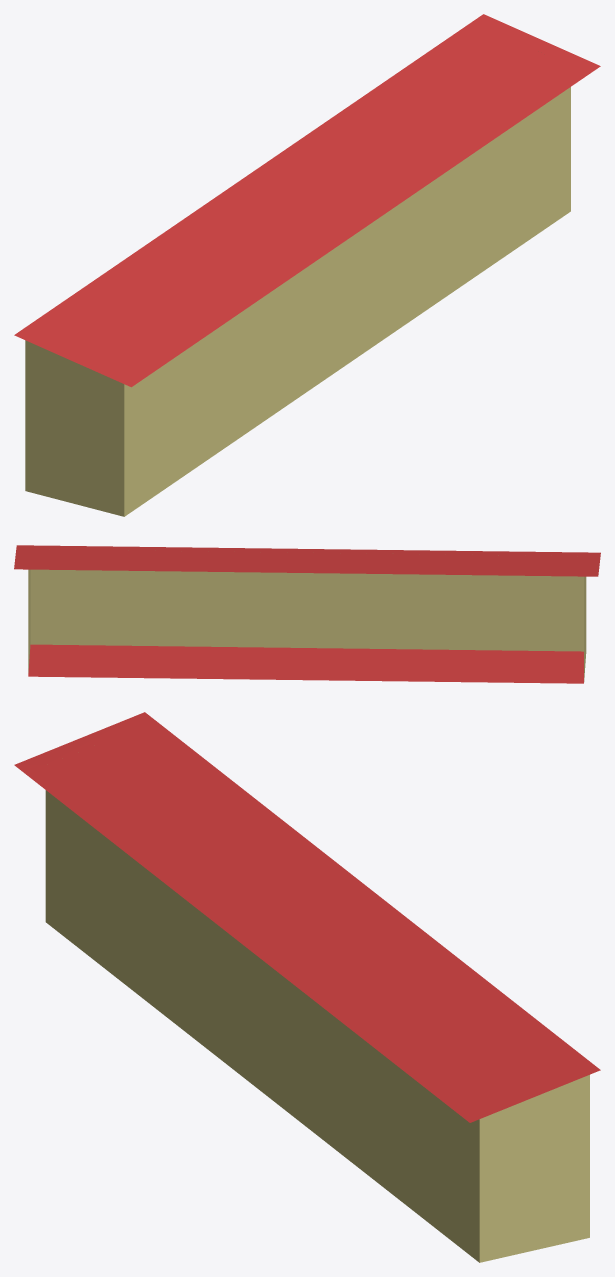
3 renders of one model, top to bottom at view 1: azimuth 30°, elevation 25°; view 2: azimuth 150°, elevation 25°; view 3: azimuth 270°, elevation 25°, orthographic. The views are drawn at different scales.
Size of the model in its own units: 29.36 by 18.77 by 6.22.
